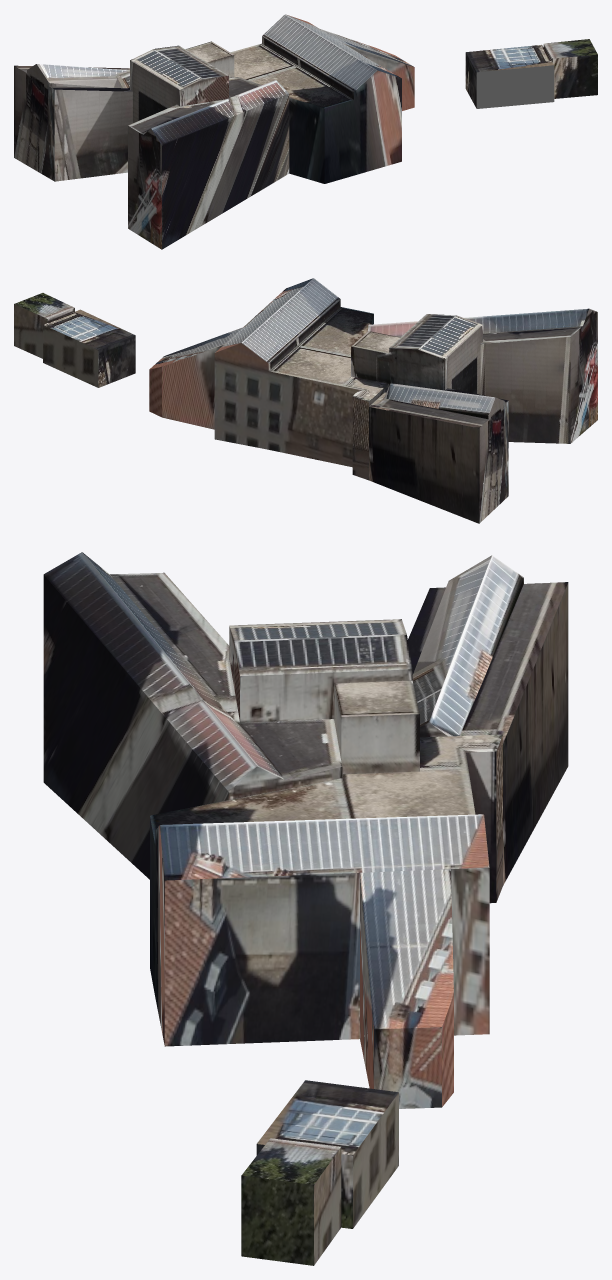
3 views of the same model, one above another, from view 1: azimuth 30°, elevation 25°; view 2: azimuth 150°, elevation 25°; view 3: azimuth 270°, elevation 25° (orthographic). The views are drawn at different scales.
Visible parts, largest first — view 1: Z_UP; view 2: Z_UP; view 3: Z_UP.
Boxes of the visible parts, x1,y1,x2,y2 form: Z_UP: (14, 14, 597, 249); Z_UP: (14, 278, 597, 523); Z_UP: (43, 552, 568, 1265).
Size of the model in its own units: 63.6 by 13.61 by 28.23.
2 materials, 1 textured.
